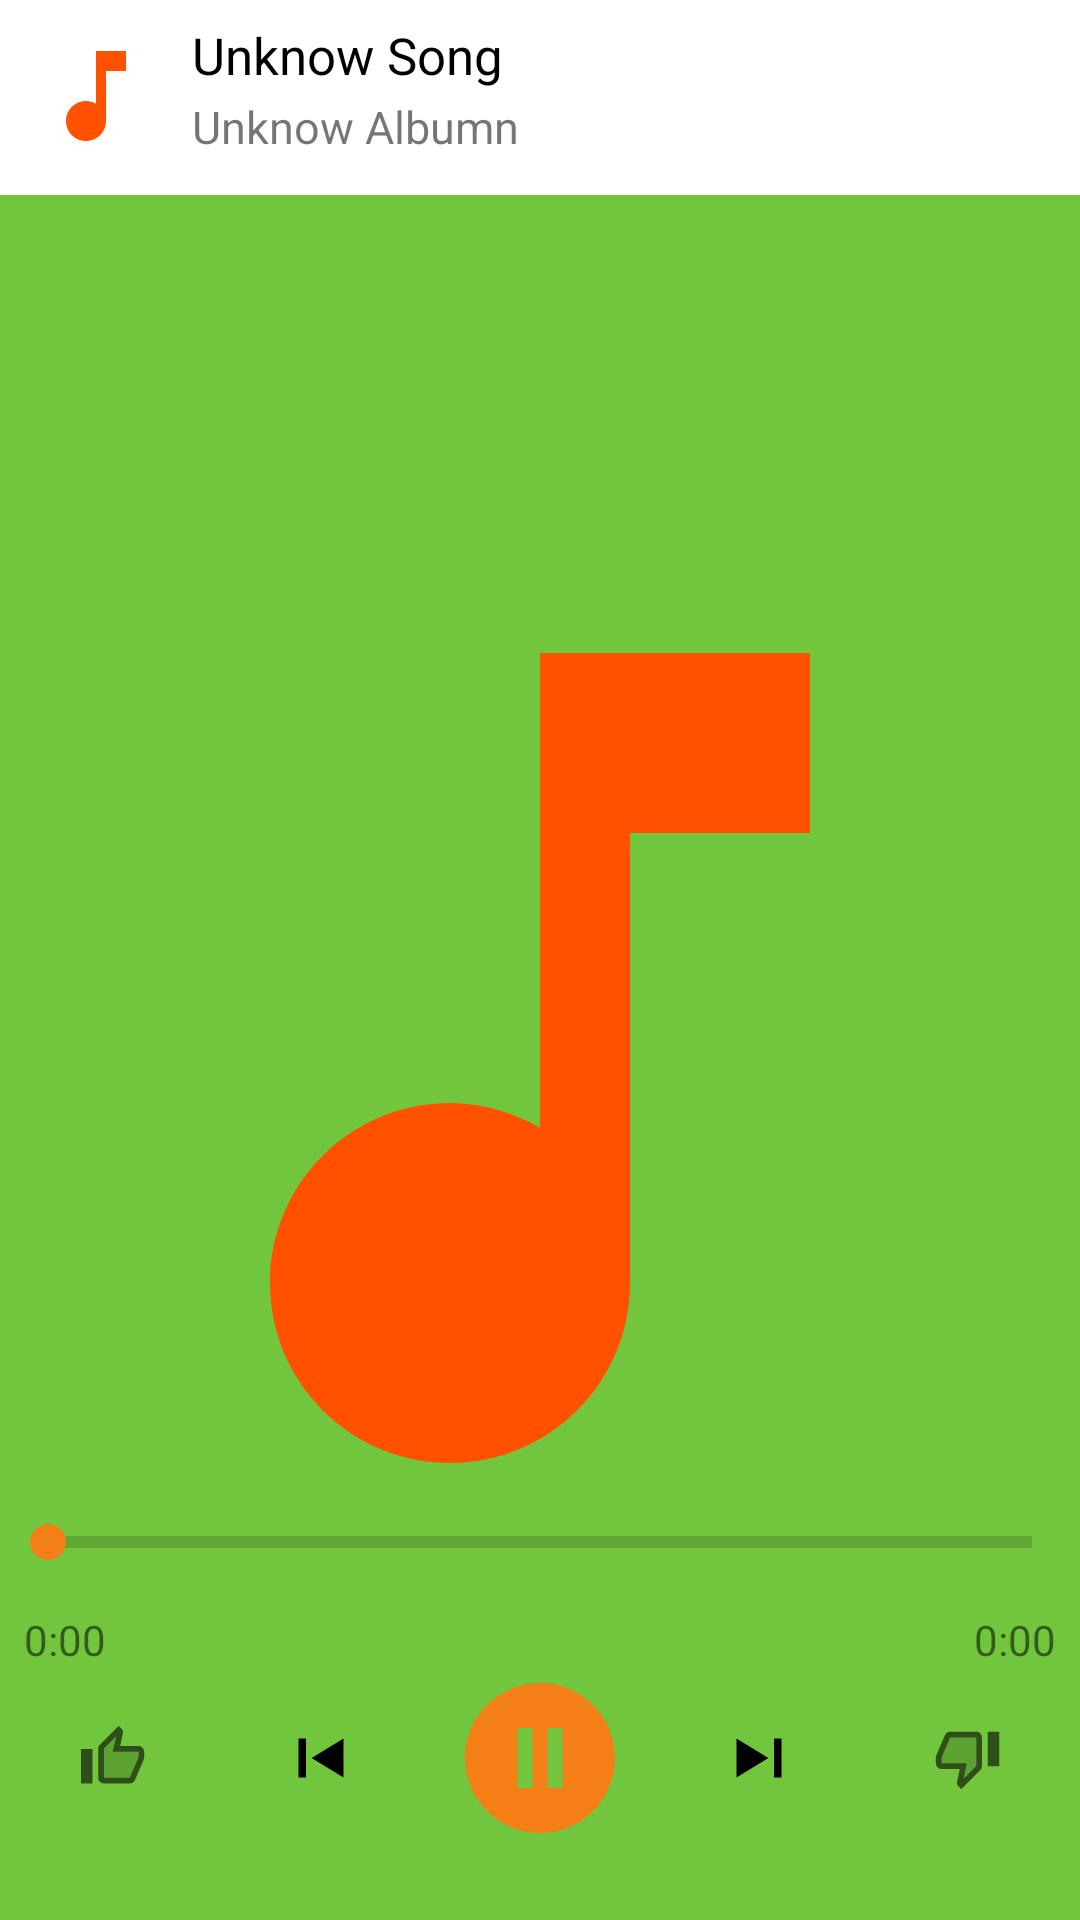

Where to tap for icons on this 1080 × 1920 app screen, as [x,y]:
dislike: [967,1760]
like: [113,1755]
next: [759,1758]
pause circle: [540,1758]
previous: [321,1758]
